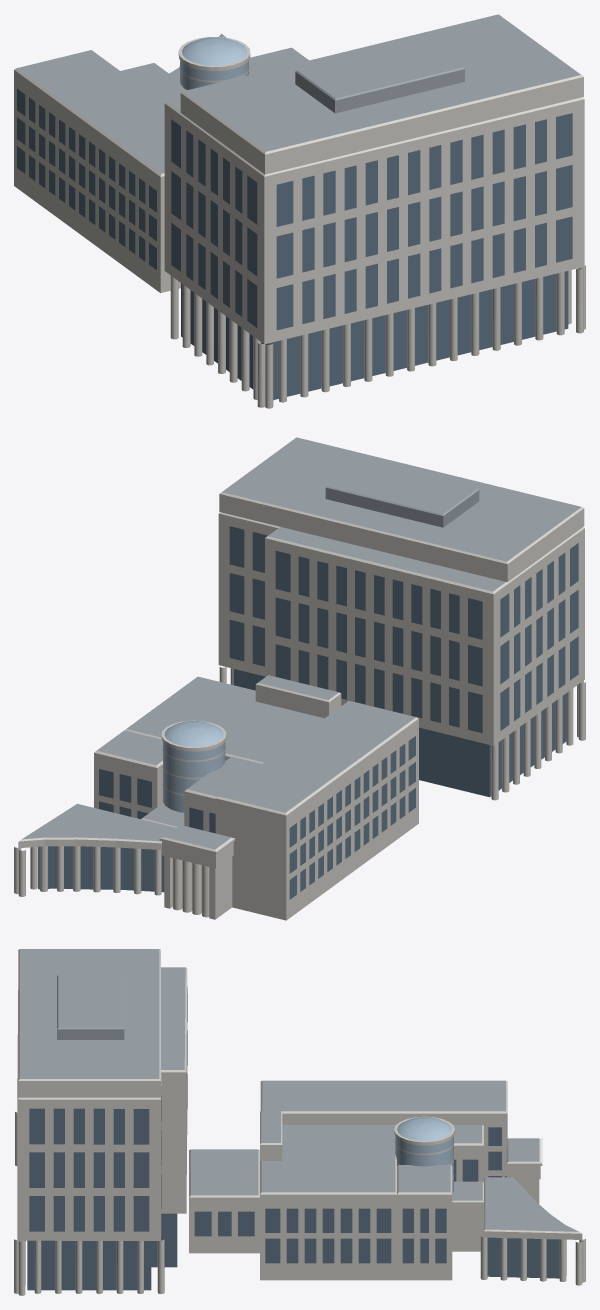
File: den-ralph-carr-judicial-center.glb
3 renders of one model, top to bottom at view 1: azimuth 30°, elevation 25°; view 2: azimuth 150°, elevation 25°; view 3: azimuth 270°, elevation 25°, orthographic. The views are drawn at different scales.
Parts seen in each view (by area): view 1: Ralph L. Carr Colorado Judicial Center; view 2: Ralph L. Carr Colorado Judicial Center; view 3: Ralph L. Carr Colorado Judicial Center.
Boxes of the visible parts, x1=… form: Ralph L. Carr Colorado Judicial Center: x1=14, y1=14, x2=585, y2=408; Ralph L. Carr Colorado Judicial Center: x1=14, y1=437, x2=585, y2=920; Ralph L. Carr Colorado Judicial Center: x1=14, y1=949, x2=585, y2=1295.
Bounding box in the file's own units: 80.47 × 63.3 × 145.
